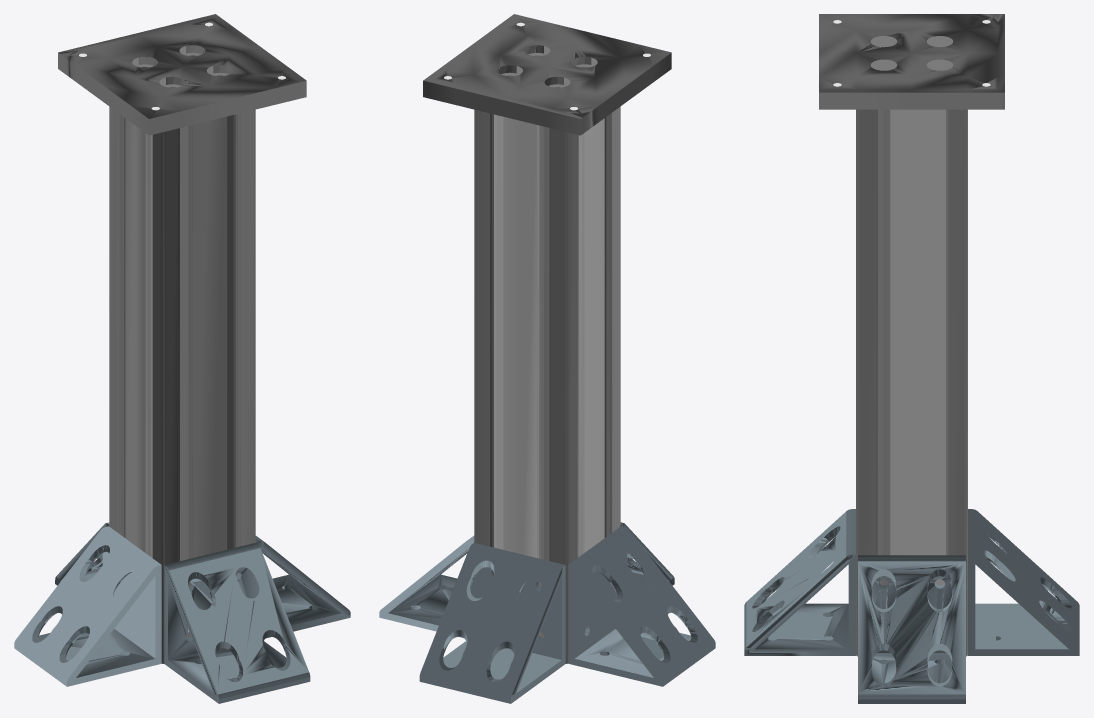
File: robot_stand.dae
3 views of the same model, side by side, from view 1: azimuth 30°, elevation 25°; view 2: azimuth 150°, elevation 25°; view 3: azimuth 270°, elevation 25° (orthographic). The views are drawn at different scales.
Parts seen in each view (by area): view 1: Base; view 2: Base; view 3: Base.
Boxes of the visible parts, bbox=[...] form: Base: bbox=[14, 14, 350, 703]; Base: bbox=[379, 14, 715, 703]; Base: bbox=[744, 14, 1079, 703].
Size of the model in its own units: 0.324 by 0.618 by 0.324.
